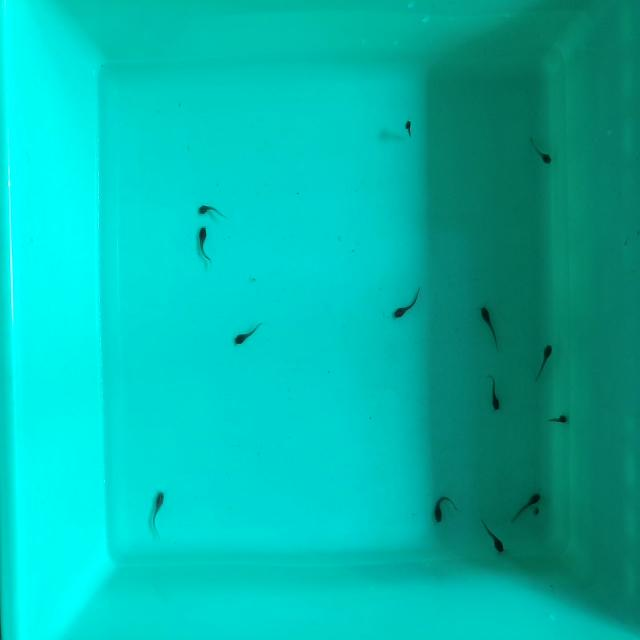lele: (508, 489, 543, 526), (479, 515, 508, 557), (392, 286, 424, 324), (478, 303, 501, 351), (232, 319, 265, 349), (533, 341, 556, 384), (525, 132, 553, 167), (152, 491, 166, 533), (488, 371, 502, 411), (197, 202, 225, 218), (199, 225, 210, 264), (434, 492, 446, 526), (529, 501, 543, 518), (404, 117, 413, 141), (548, 414, 570, 423)
